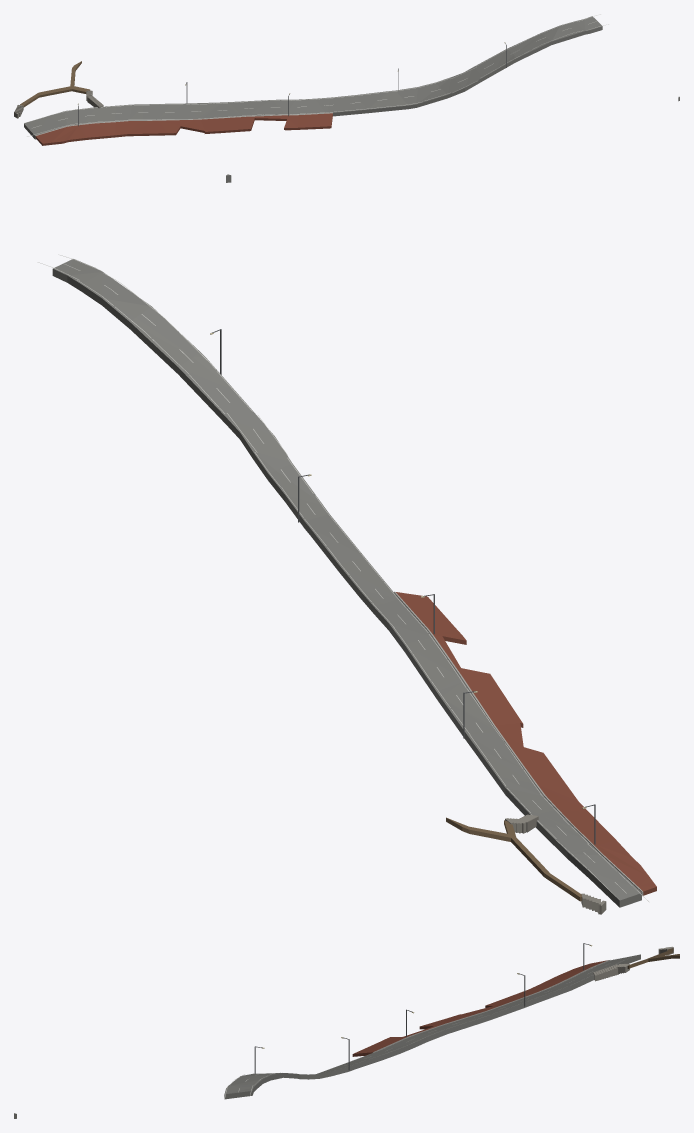
The picture shows the model from 3 angles, top to bottom: view 1: azimuth 30°, elevation 25°; view 2: azimuth 150°, elevation 25°; view 3: azimuth 270°, elevation 25°; orthographic projection. The views are drawn at different scales.
Bounding box in the file's own units: 152 × 38.53 × 146.
